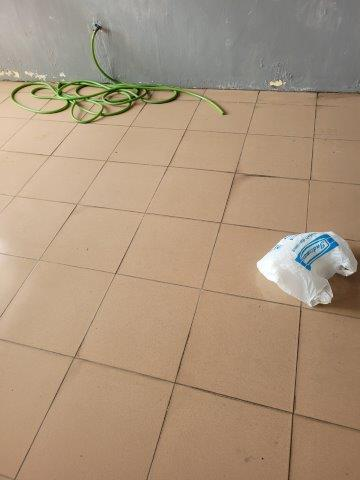plastik: (256, 228, 360, 309)
